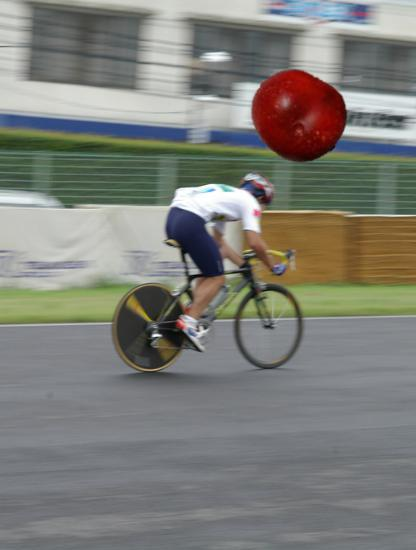Nectarine: (249, 66, 347, 164)
